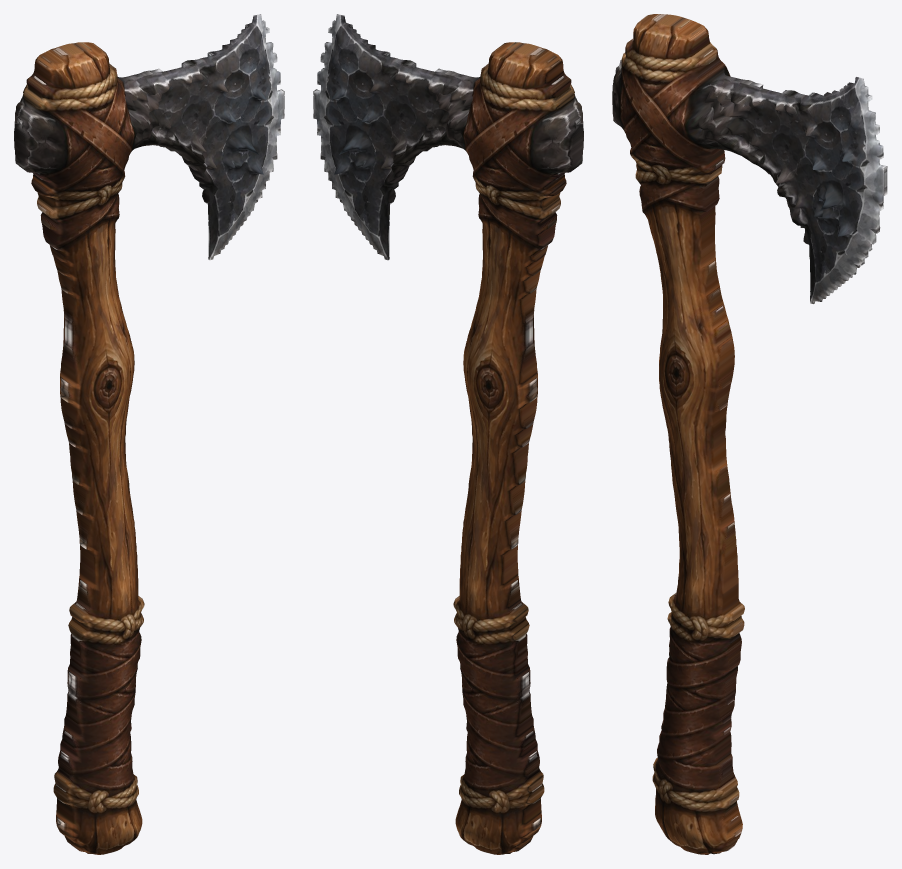
The model's file is Metallaxt.glb.
3 views of the same model, side by side, from view 1: azimuth 30°, elevation 25°; view 2: azimuth 150°, elevation 25°; view 3: azimuth 330°, elevation 25° (orthographic).
Parts seen in each view (by area): view 1: Metallaxt; view 2: Metallaxt; view 3: Metallaxt.
Part boxes in pixels (x1,y1,x2,y2): Metallaxt: (14,14,284,854); Metallaxt: (313,14,583,854); Metallaxt: (612,14,887,854).
Size of the model in its own units: 0.2433 by 0.7127 by 0.0851.
1 material, 1 textured.
